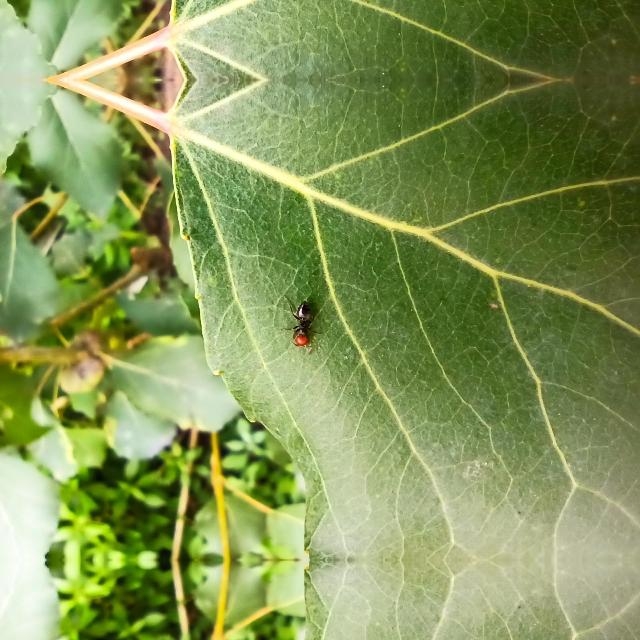Crematogaster: (287, 293, 319, 355)
